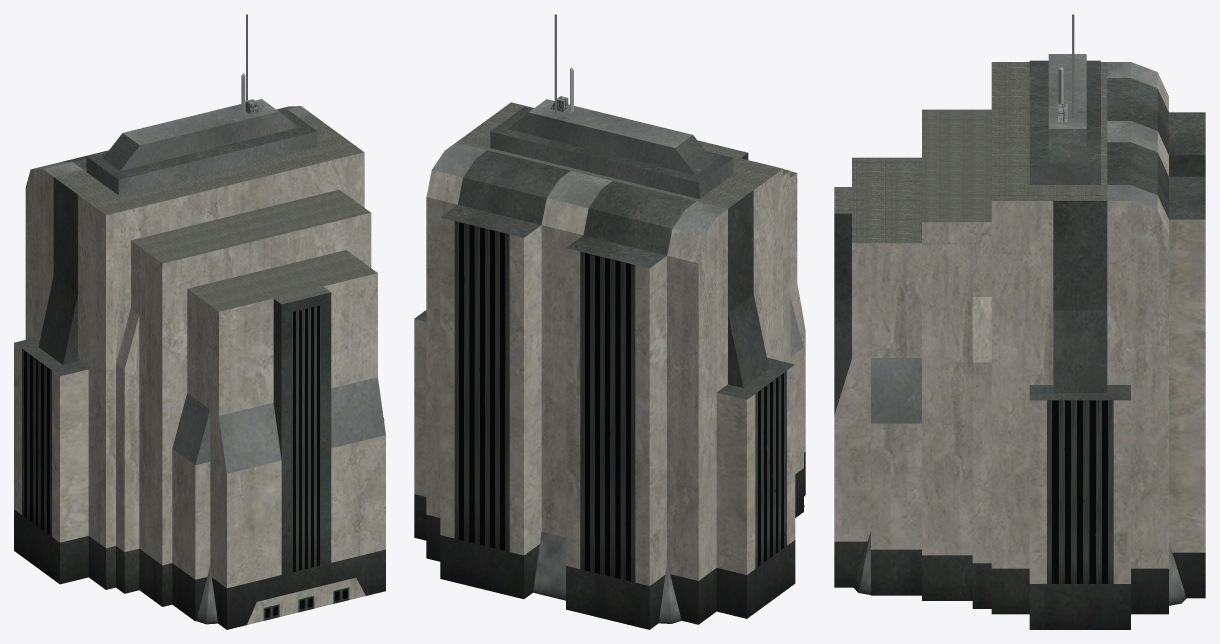
Rendered from thm_corl_imprv_building_s04_r0_mesh_l3.fbx.
3 views of the same model, side by side, from view 1: azimuth 30°, elevation 25°; view 2: azimuth 150°, elevation 25°; view 3: azimuth 270°, elevation 25° (orthographic). The views are drawn at different scales.
Visible parts, largest first — view 1: mesh_node; view 2: mesh_node; view 3: mesh_node.
Part boxes in pixels (<box>): mesh_node: <box>14,14,385,629</box>; mesh_node: <box>414,14,805,629</box>; mesh_node: <box>834,14,1205,629</box>.
Size of the model in its own units: 63.59 by 97 by 58.59.
